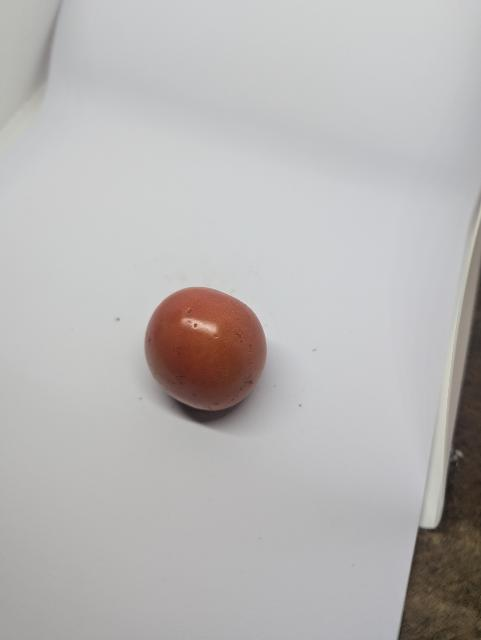red: (139, 284, 272, 417)
